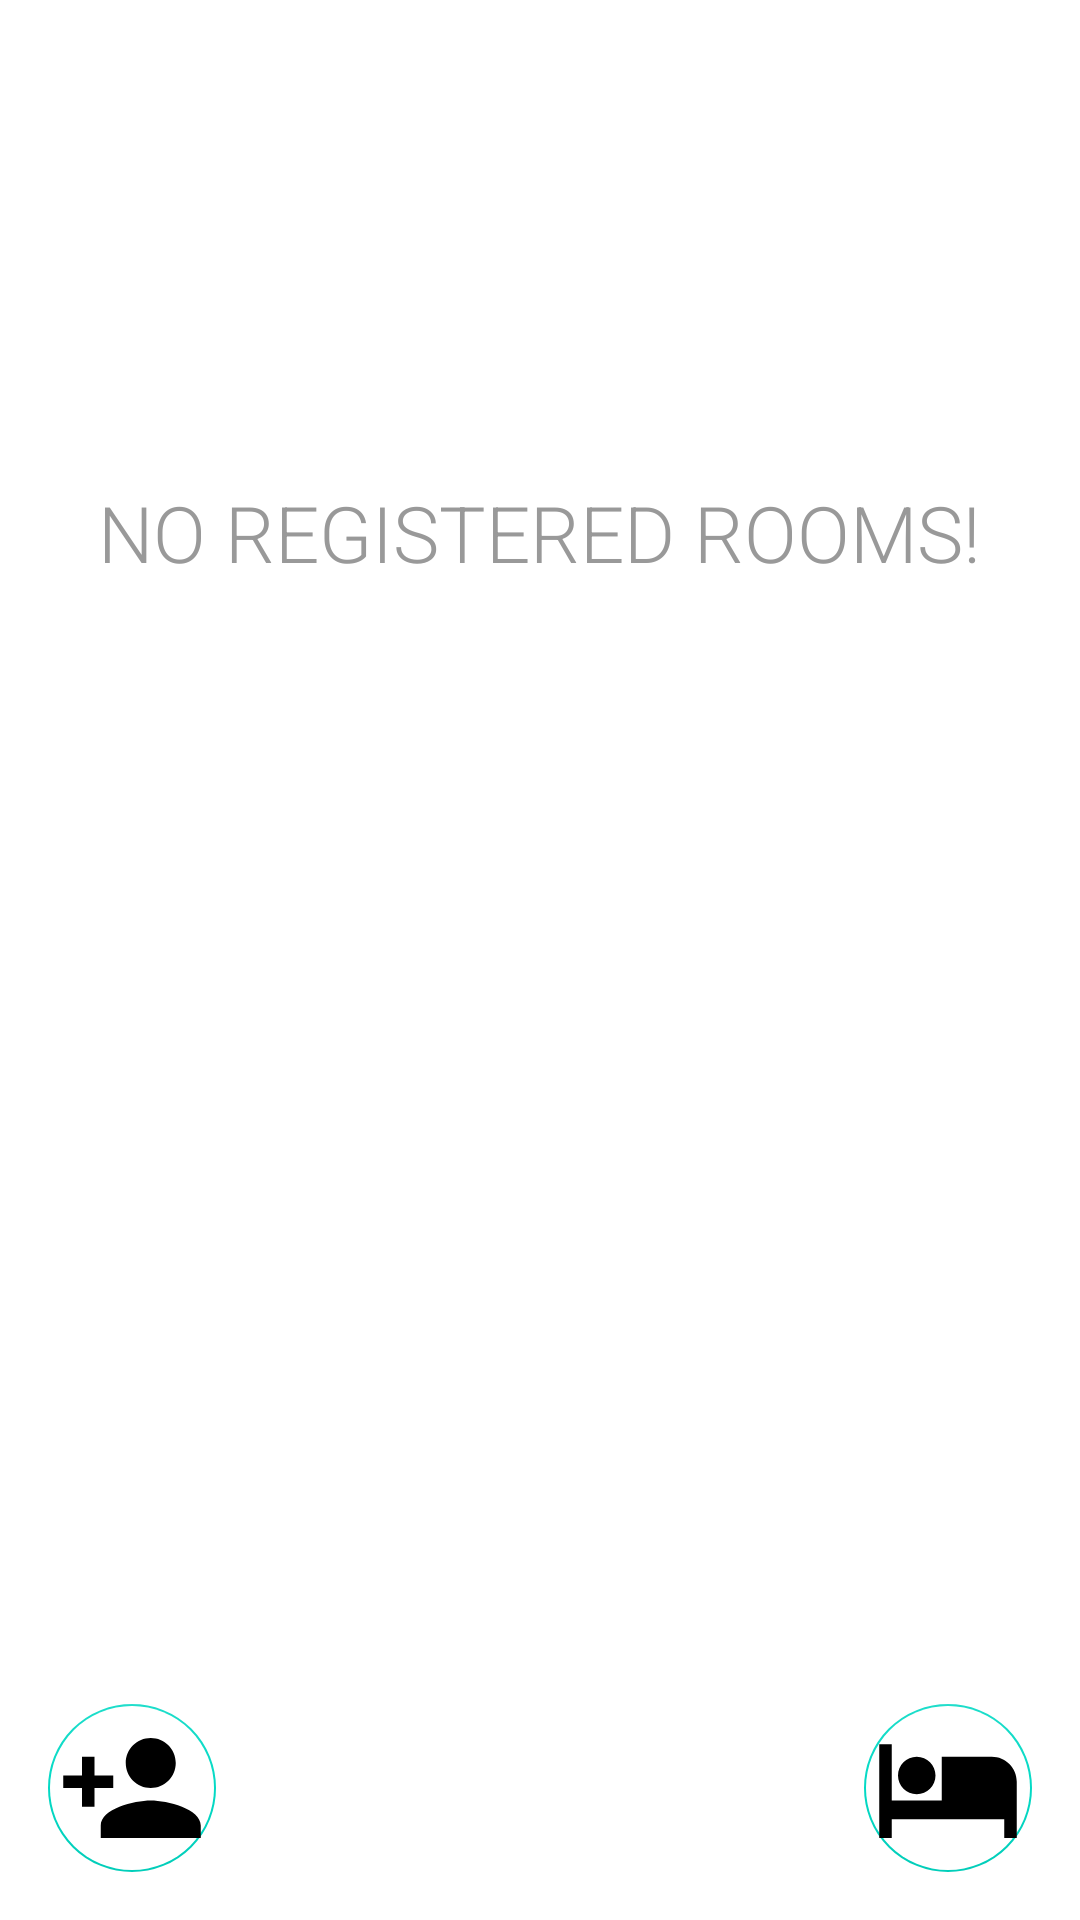

Icons on this 1080 x 1920 Android screen, each with its box as box=[x1, y1, x2, y2]:
Add tenant: box=[48, 1704, 216, 1872]
